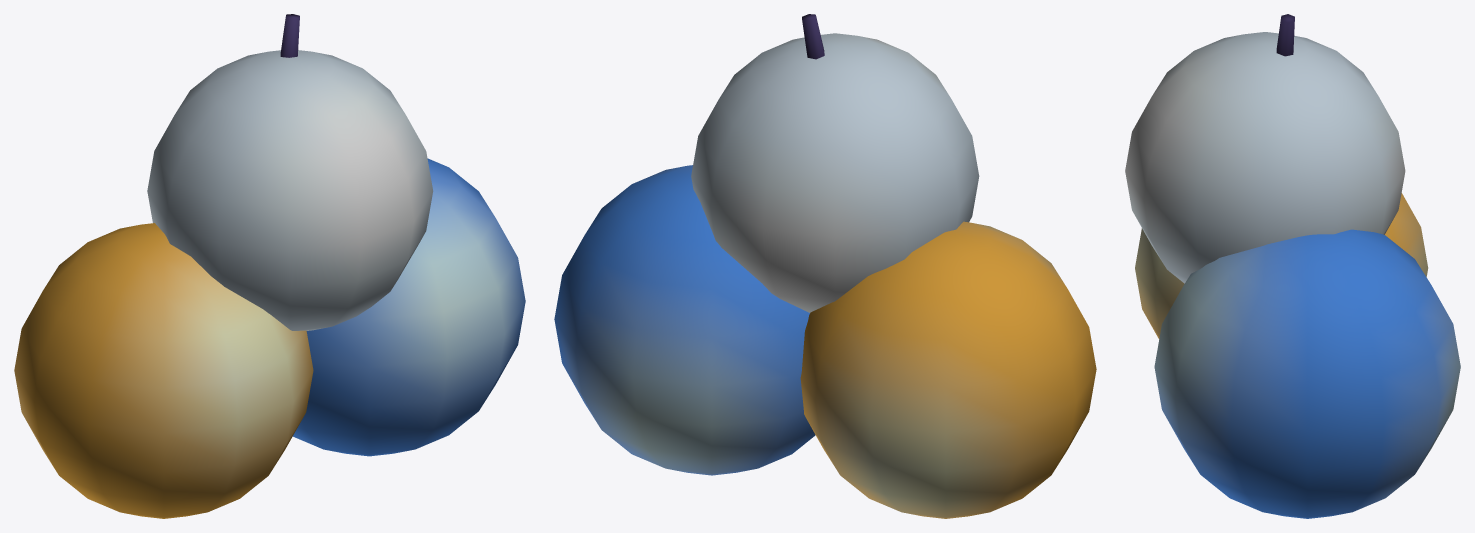
The model's file is Fusion_Berry.glb.
3 views of the same model, side by side, from view 1: azimuth 30°, elevation 25°; view 2: azimuth 150°, elevation 25°; view 3: azimuth 270°, elevation 25° (orthographic). The views are drawn at different scales.
Parts seen in each view (by area): view 1: Fusion_Berry; view 2: Fusion_Berry; view 3: Fusion_Berry.
Part boxes in pixels (<box>): Fusion_Berry: <box>14,14,525,518</box>; Fusion_Berry: <box>554,14,1096,518</box>; Fusion_Berry: <box>1125,14,1460,518</box>.
Size of the model in its own units: 0.84 by 0.7568 by 0.515.
